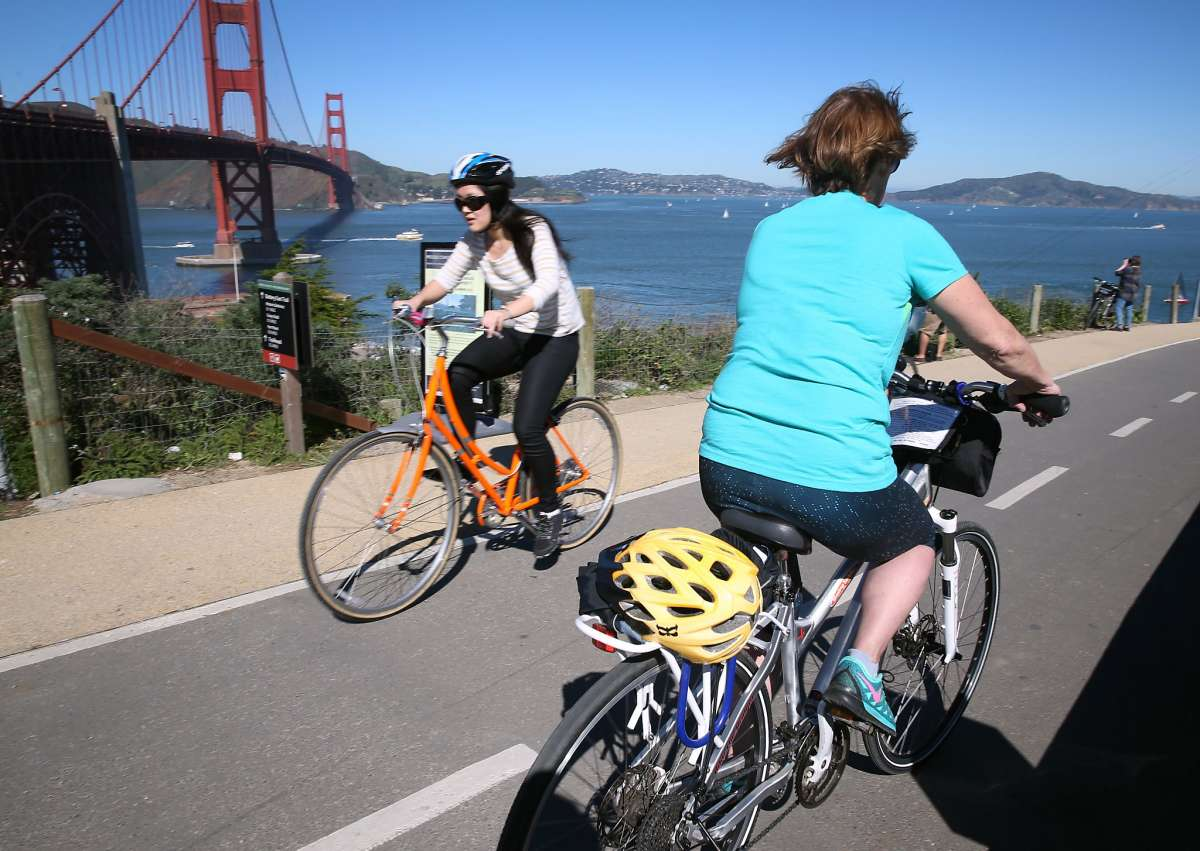helmet: (450, 154, 517, 233)
